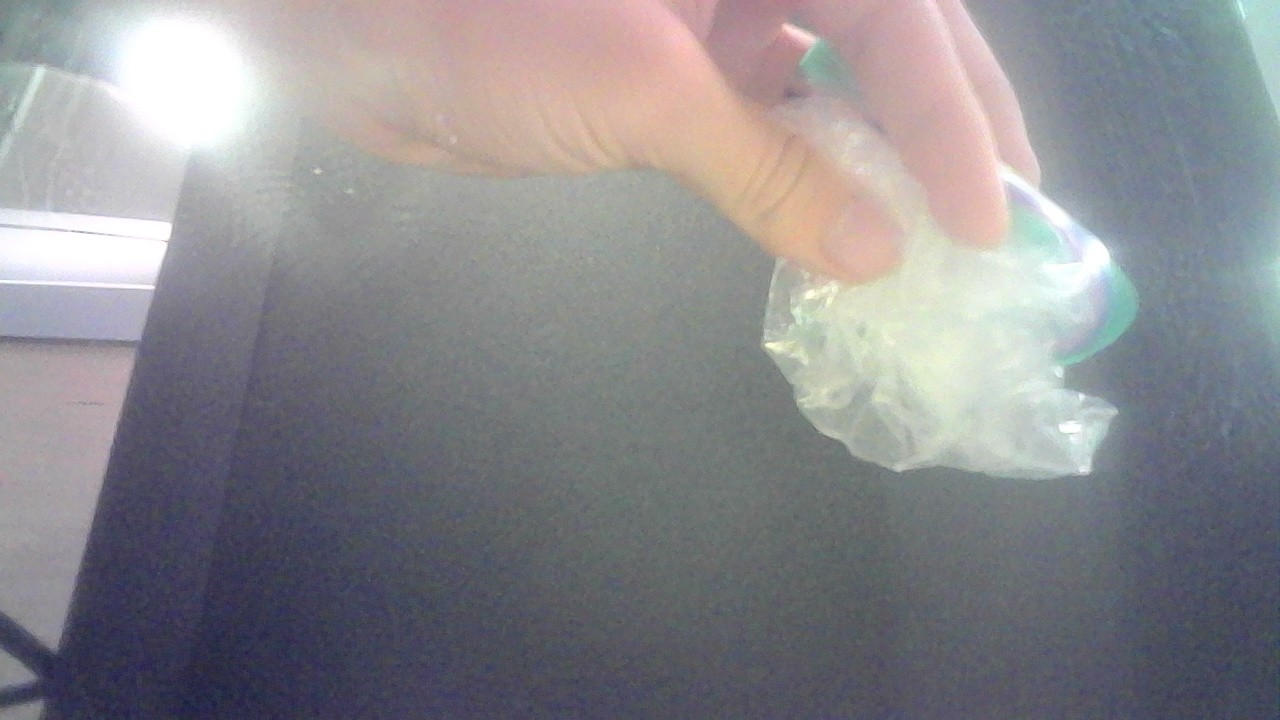Plastic_Recycling: (739, 57, 1160, 490)
